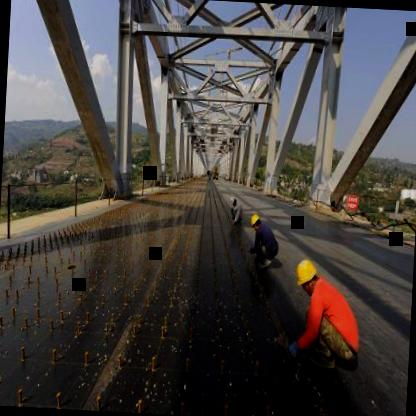helmet: (292, 256, 320, 297), (250, 212, 262, 230)
